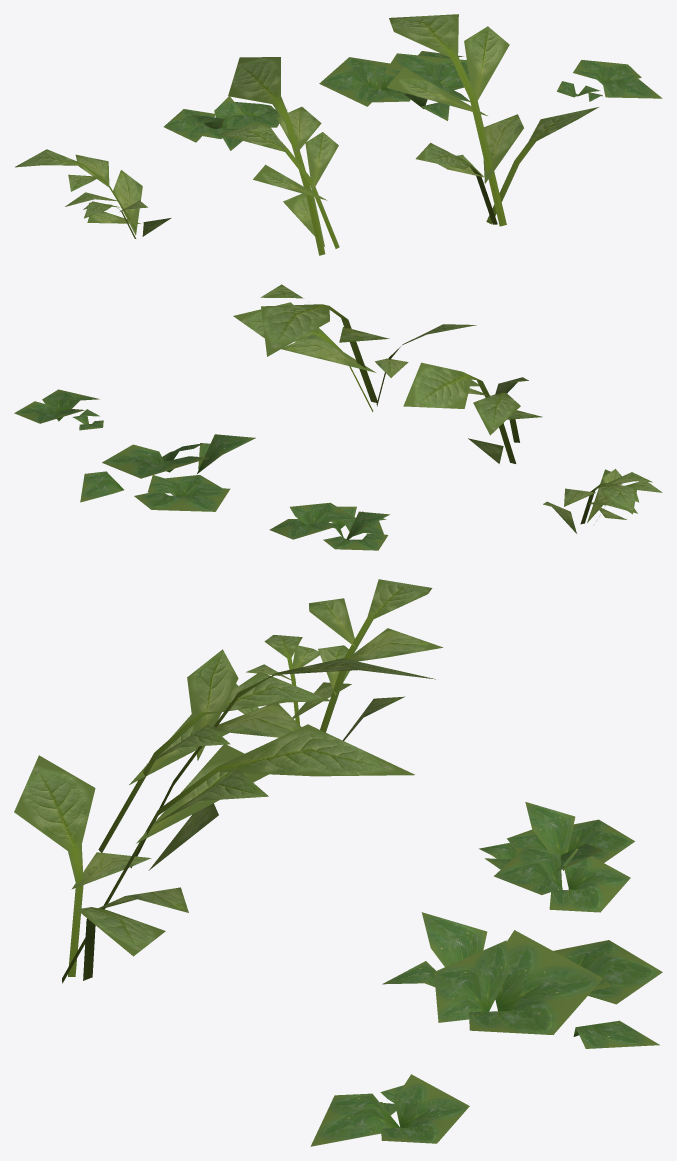
File: bushes_test.FBX
3 renders of one model, top to bottom at view 1: azimuth 30°, elevation 25°; view 2: azimuth 150°, elevation 25°; view 3: azimuth 270°, elevation 25°, orthographic. The views are drawn at different scales.
Parts seen in each view (by area): view 1: bigbush_1, bigbush_2, smallbush_2, bigbush_3, smallbush_3, smallbush_1; view 2: smallbush_2, bigbush_1, bigbush_2, smallbush_3, bigbush_3, smallbush_1; view 3: bigbush_1, smallbush_2, bigbush_2, smallbush_3, bigbush_3, smallbush_1.
Boxes of the visible parts, x1=… form: bigbush_1: x1=386, y1=14, x2=598, y2=226; bigbush_2: x1=219, y1=57, x2=339, y2=255; smallbush_2: x1=319, y1=51, x2=470, y2=120; bigbush_3: x1=15, y1=149, x2=171, y2=238; smallbush_3: x1=163, y1=96, x2=287, y2=150; smallbush_1: x1=557, y1=60, x2=662, y2=101; smallbush_2: x1=80, y1=434, x2=255, y2=511; bigbush_1: x1=233, y1=284, x2=476, y2=411; bigbush_2: x1=403, y1=362, x2=542, y2=463; smallbush_3: x1=269, y1=502, x2=389, y2=550; bigbush_3: x1=543, y1=469, x2=662, y2=533; smallbush_1: x1=14, y1=389, x2=103, y2=430; bigbush_1: x1=14, y1=724, x2=414, y2=983; smallbush_2: x1=382, y1=912, x2=662, y2=1048; bigbush_2: x1=98, y1=649, x2=435, y2=870; smallbush_3: x1=479, y1=802, x2=634, y2=912; bigbush_3: x1=233, y1=579, x2=442, y2=740; smallbush_1: x1=310, y1=1074, x2=469, y2=1146.
Size of the model in its own units: 242 by 56.81 by 138.
